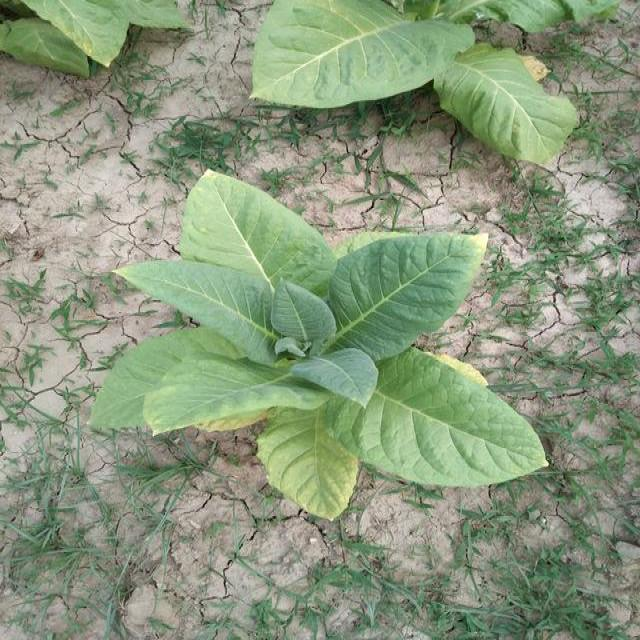crop: (110, 178, 543, 524), (241, 0, 627, 160), (2, 0, 186, 59)
